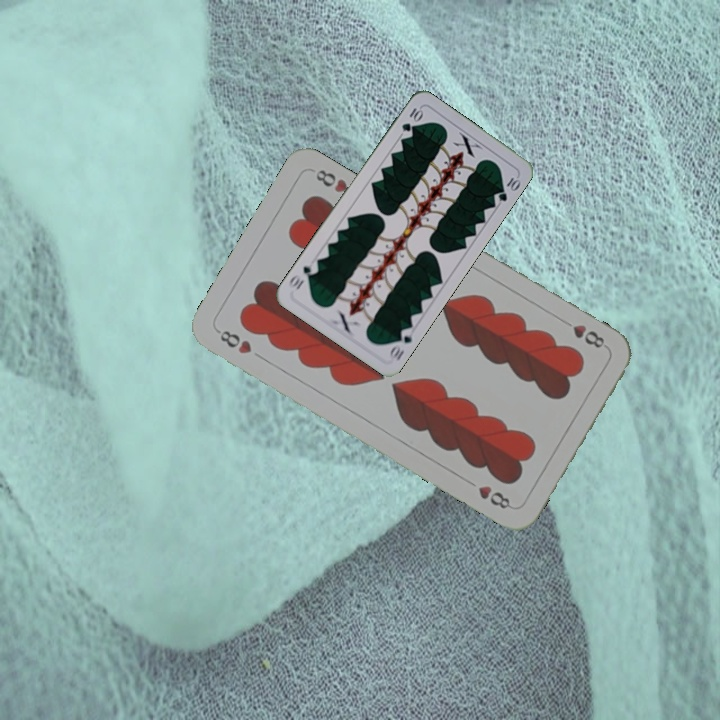G10: (385, 324, 416, 363), (397, 104, 425, 134)
H8: (557, 315, 607, 351), (212, 325, 255, 357)
